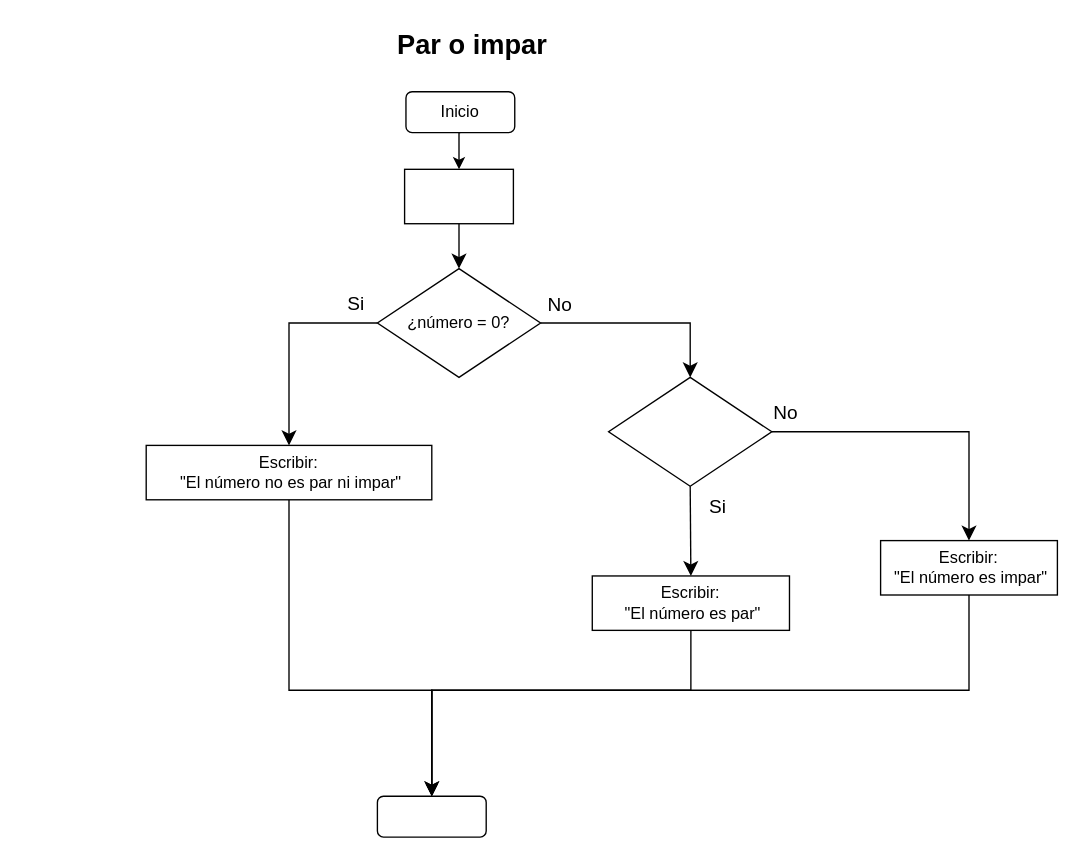
Image size: 1081x861. Some labels were removed from this diagram. Here are the shapes that lost their labels. From the top down, the centre of each, then its label:
pixel 458 196: Leer número
pixel 689 431: ¿número es par?
pixel 431 816: Fin
